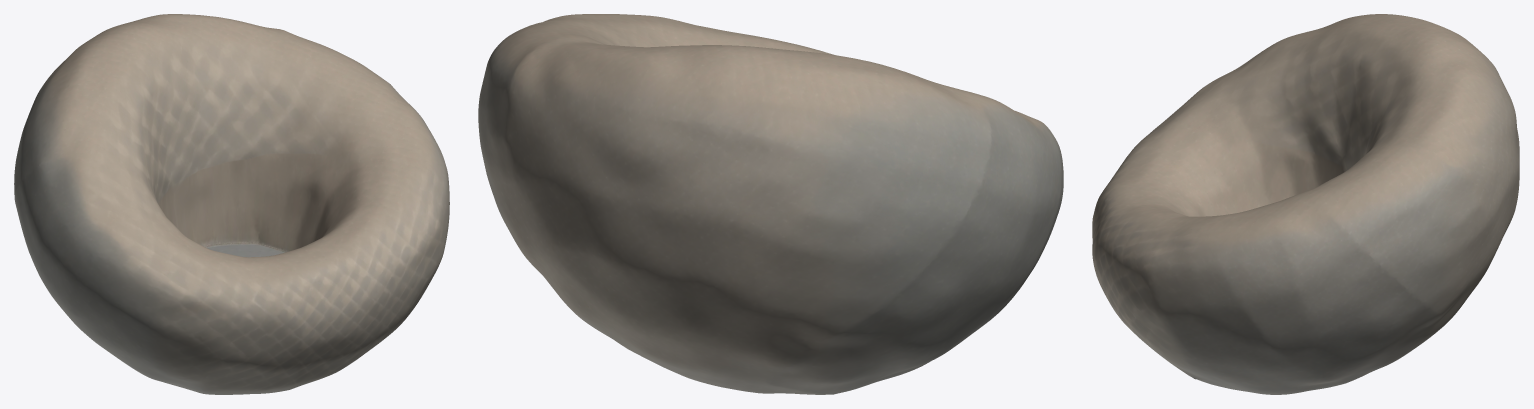
Rendered from costeiro_boia.glb.
3 renders of one model, left to right at view 1: azimuth 30°, elevation 25°; view 2: azimuth 150°, elevation 25°; view 3: azimuth 270°, elevation 25°, orthographic. The views are drawn at different scales.
Size of the model in its own units: 1.9 by 1.41 by 1.73.
1 material, 1 textured.
